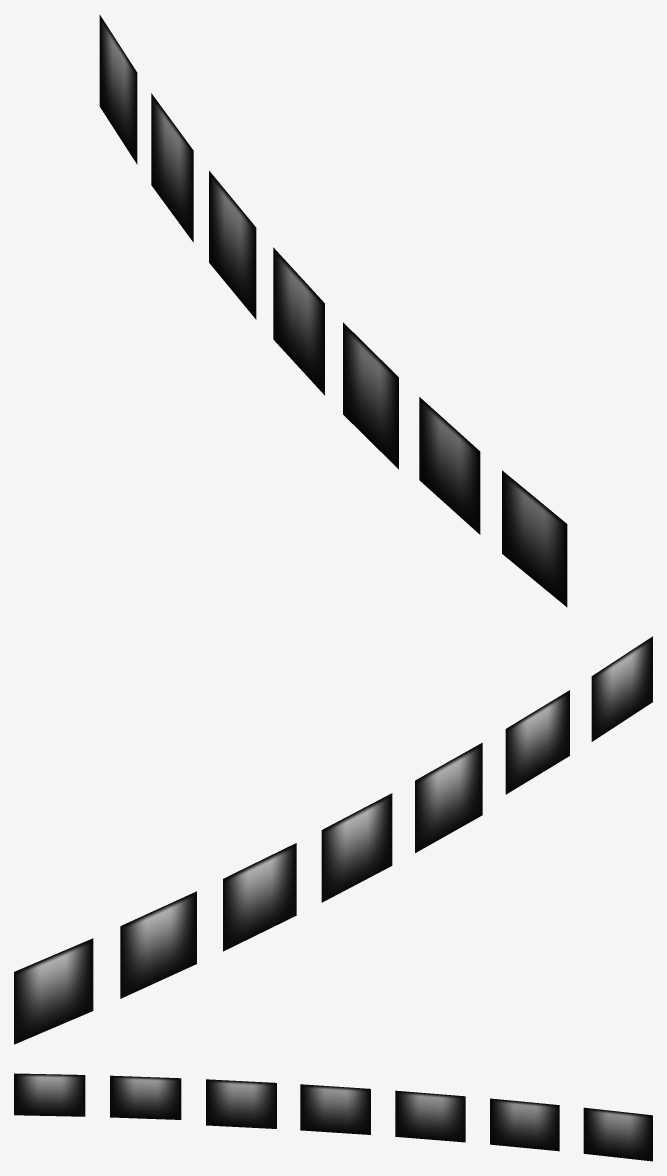
The model's file is menunew3_halorays2.fbx.
The picture shows the model from 3 angles, top to bottom: view 1: azimuth 30°, elevation 25°; view 2: azimuth 150°, elevation 25°; view 3: azimuth 270°, elevation 25°; orthographic projection. The views are drawn at different scales.
Visible parts, largest first — view 1: menuNew3_haloRays2_pivot__6_-_Defaultasd_LOD1; view 2: menuNew3_haloRays2_pivot__6_-_Defaultasd_LOD1; view 3: menuNew3_haloRays2_pivot__6_-_Defaultasd_LOD1.
Boxes of the visible parts, box(x1,y1,x2,y2) form: menuNew3_haloRays2_pivot__6_-_Defaultasd_LOD1: box(99, 14, 567, 607); menuNew3_haloRays2_pivot__6_-_Defaultasd_LOD1: box(14, 636, 652, 1044); menuNew3_haloRays2_pivot__6_-_Defaultasd_LOD1: box(14, 1073, 652, 1161).
Bounding box in the file's own units: 8.2 × 52.93 × 4.22.
